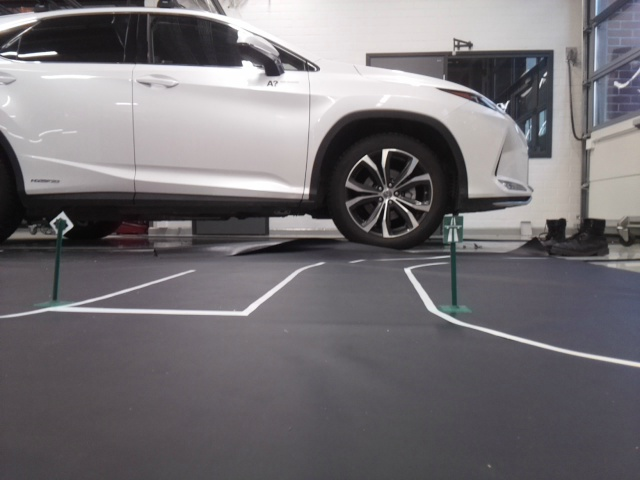HighwayEntrance: (443, 216, 462, 241)
